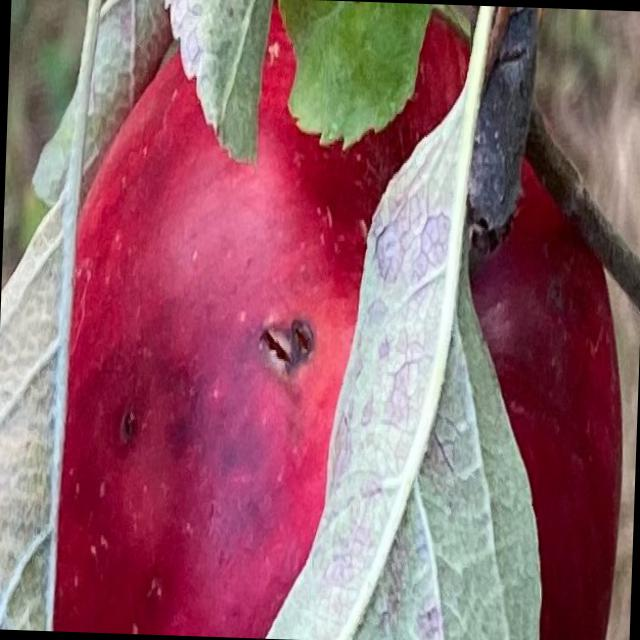Apples: (49, 0, 638, 639)
